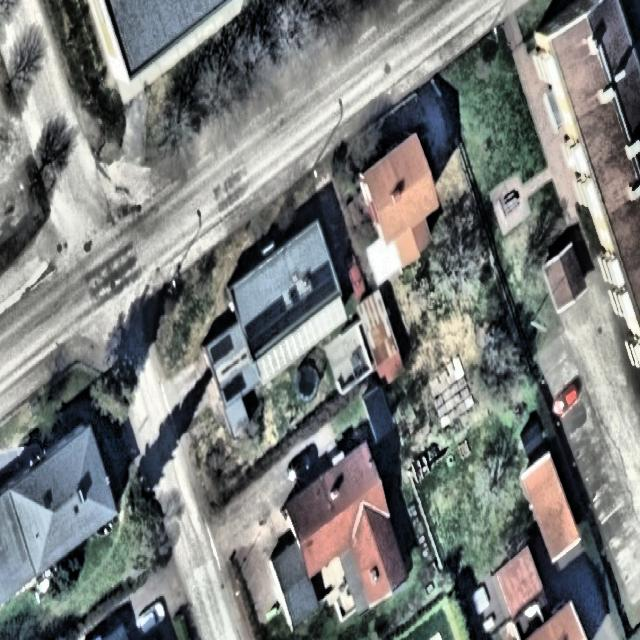roof_pv: (243, 310, 285, 352), (308, 266, 337, 302), (286, 300, 316, 320), (271, 296, 286, 310)
